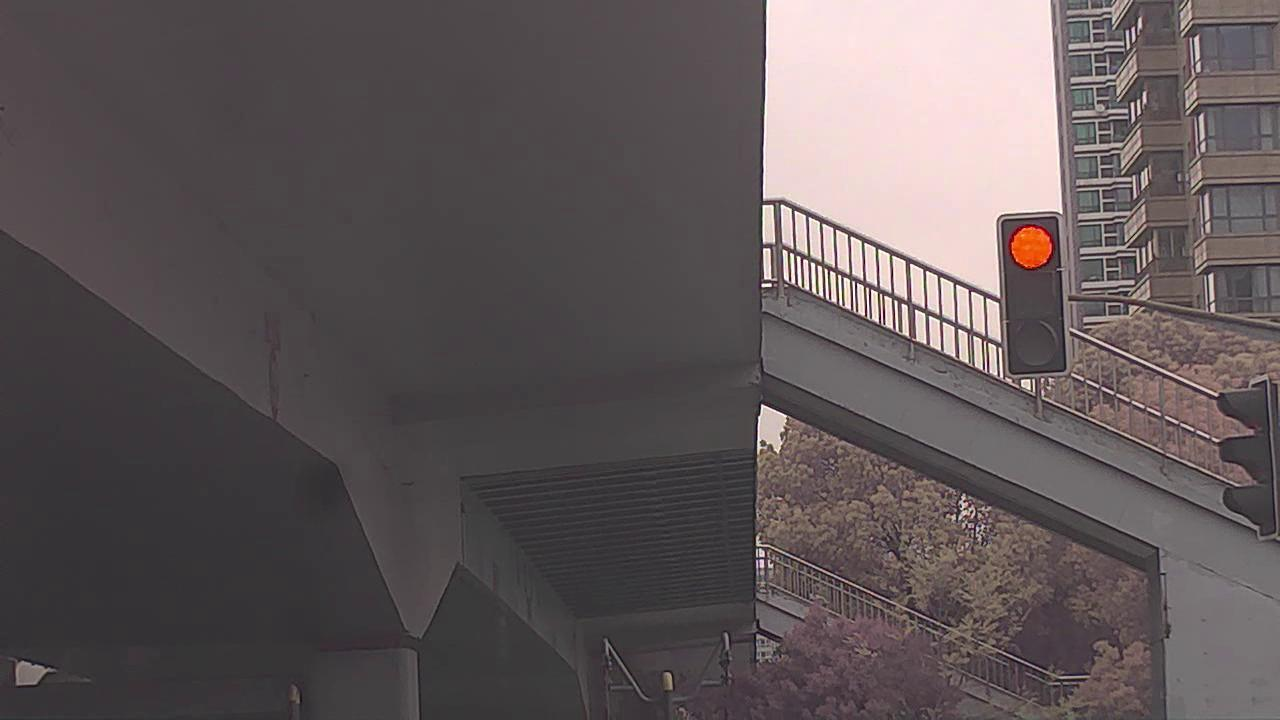traffic_light: (999, 216, 1068, 375)
